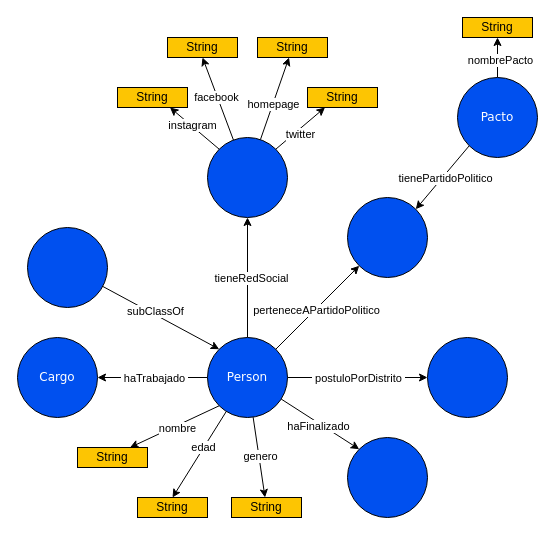
The diagram is 555 pixels wide and 535 high, and some of its shapes have lost their labels. Here are the shapes that lost their labels. From the top down, the box of each, then its label:
(206, 136, 288, 218): RedSocial
(346, 196, 428, 278): PartidoPolitico
(26, 226, 108, 308): Candidato
(426, 336, 508, 418): Distrito
(346, 436, 428, 518): Profesion
